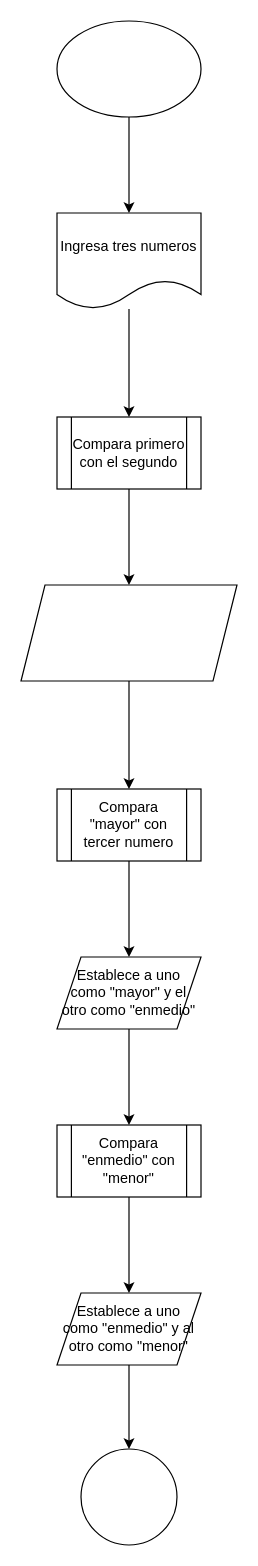
This 258x1566 diagram has some shape labels left out. The centre of each missing label's shape, as x and y in pixels:
Establece a uno como "mayor" y el otro como "menor": the point at 128,632
Fin: the point at 128,1496
Inicio: the point at 128,68
